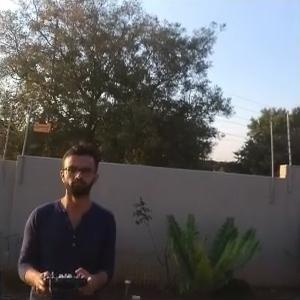follow: (10, 140, 118, 298)
